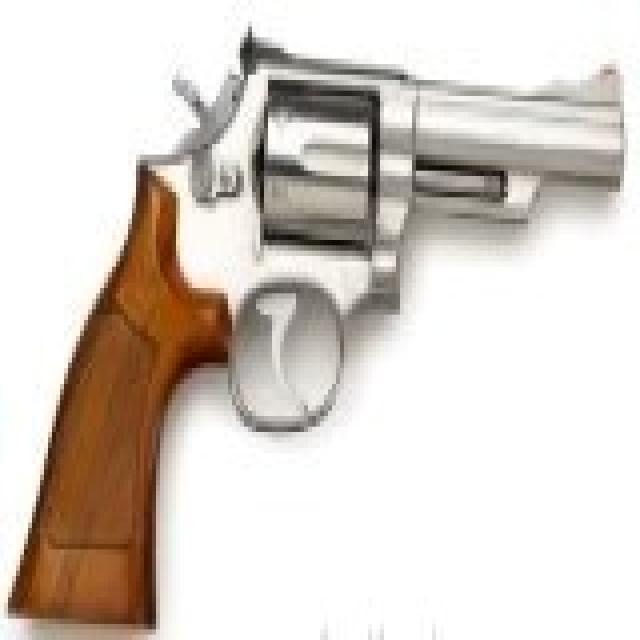Gun: (22, 26, 628, 606)
